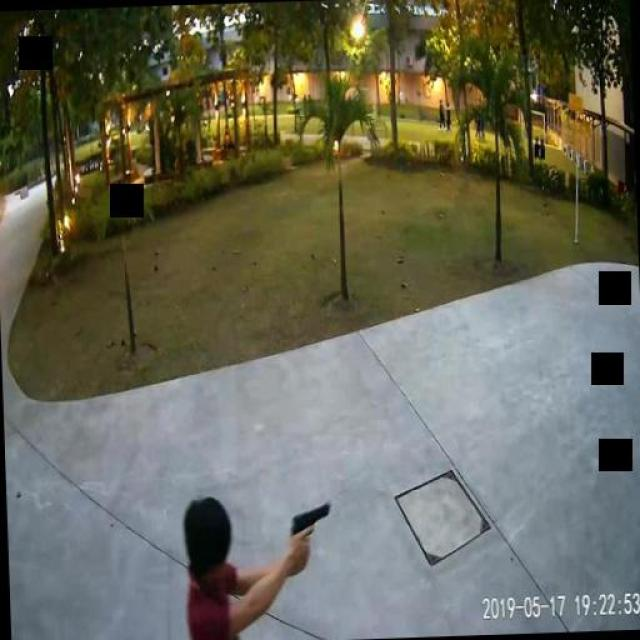gun: (286, 500, 330, 560)
